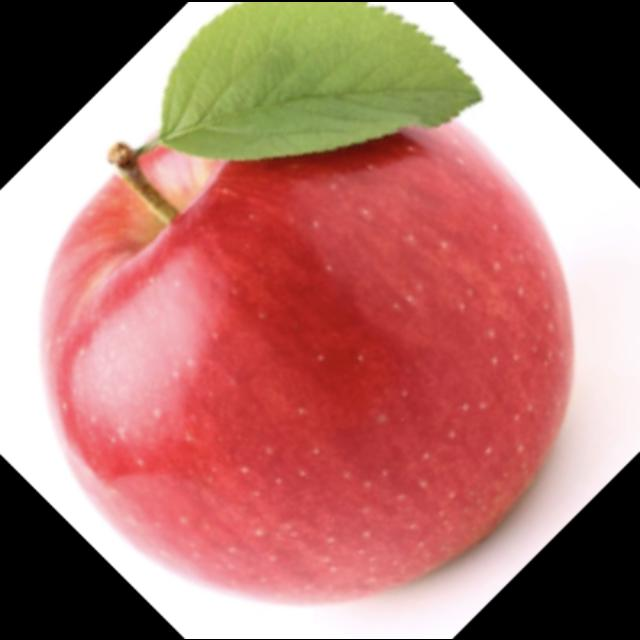Apel Segar: (30, 105, 578, 603)
